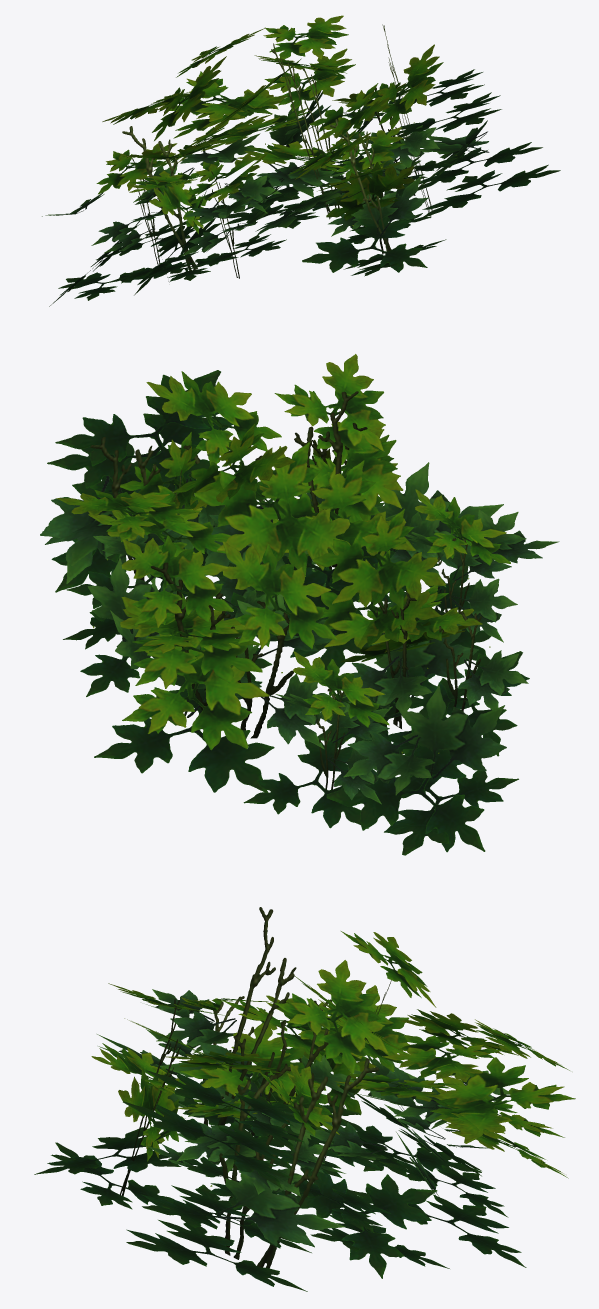
Rendered from niuqushugen_01_b.FBX.
3 views of the same model, one above another, from view 1: azimuth 30°, elevation 25°; view 2: azimuth 150°, elevation 25°; view 3: azimuth 270°, elevation 25° (orthographic). The views are drawn at different scales.
Visible parts, largest first — view 1: niuqushugen_01_b; view 2: niuqushugen_01_b; view 3: niuqushugen_01_b.
Boxes of the visible parts, x1,y1,x2,y2 form: niuqushugen_01_b: (42,15,560,306); niuqushugen_01_b: (40,354,559,855); niuqushugen_01_b: (34,907,575,1291).
Bounding box in the file's own units: 10.47 × 6.01 × 8.82.
